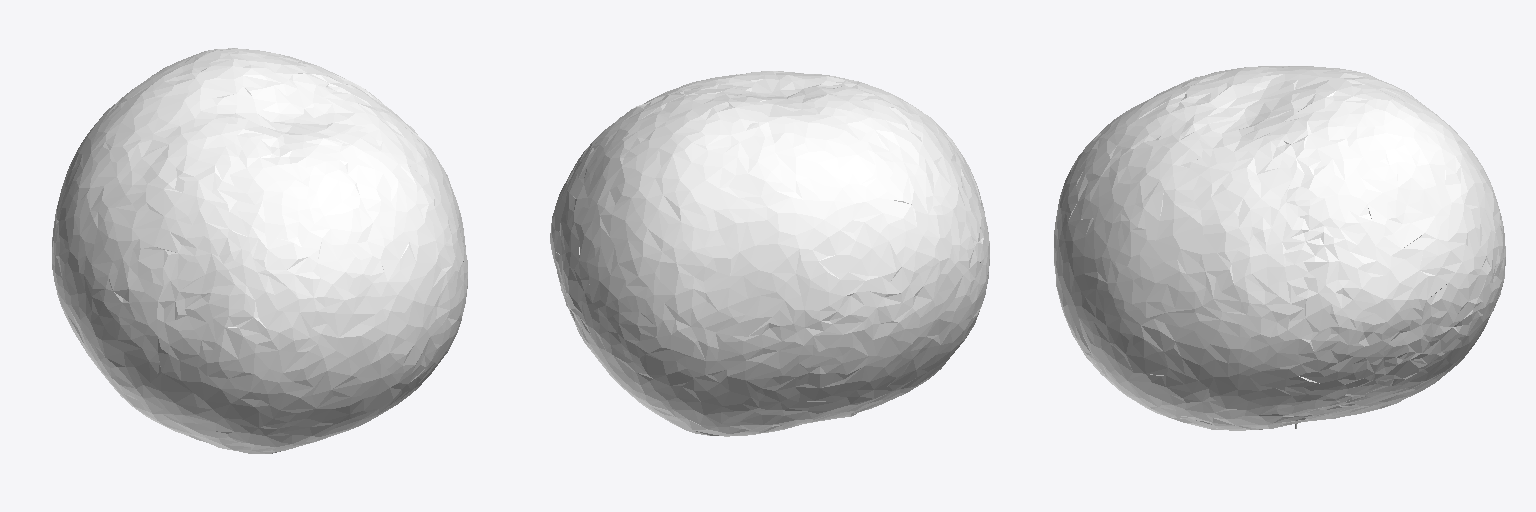
Rendered from orange.obj.
3 views of the same model, side by side, from view 1: azimuth 30°, elevation 25°; view 2: azimuth 150°, elevation 25°; view 3: azimuth 270°, elevation 25° (orthographic).
Visible parts, largest first — view 1: orange; view 2: orange; view 3: orange.
Part boxes in pixels (left/top/right/bottom): orange: left=52, top=48, right=467, bottom=453; orange: left=550, top=71, right=989, bottom=436; orange: left=1054, top=66, right=1505, bottom=430.
Size of the model in its own units: 0.3582 by 0.3127 by 0.3824.